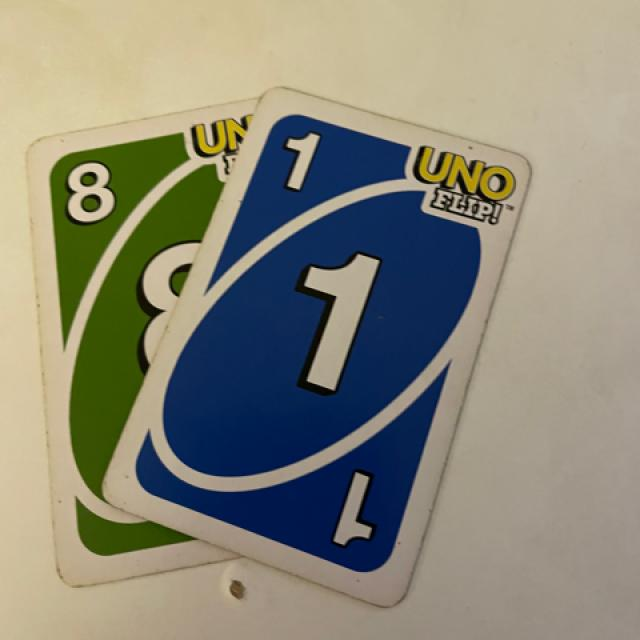lblue-1: (264, 103, 333, 221)
lgreen-8: (40, 145, 141, 243)
